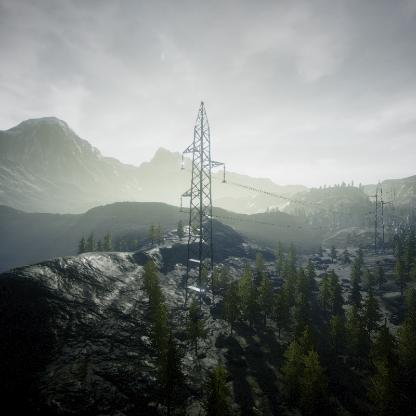tower: (177, 97, 229, 319), (365, 181, 396, 255)
